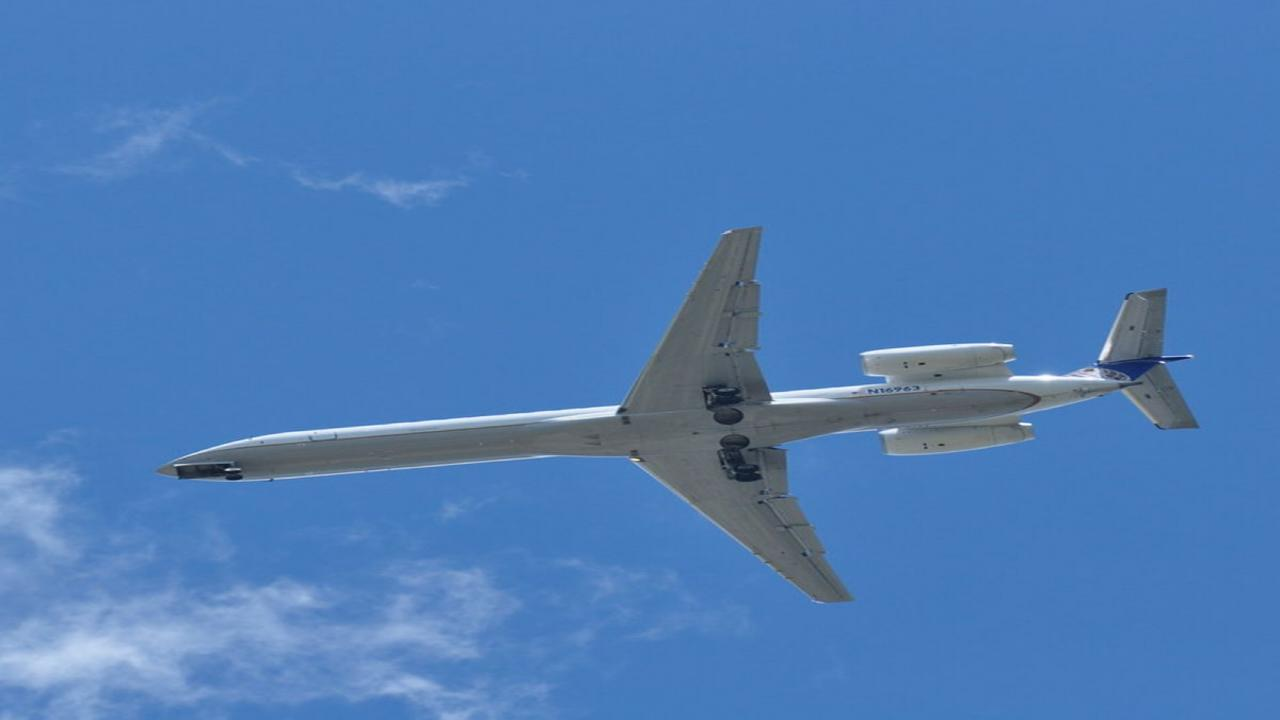Airplane: (136, 215, 1231, 620)
